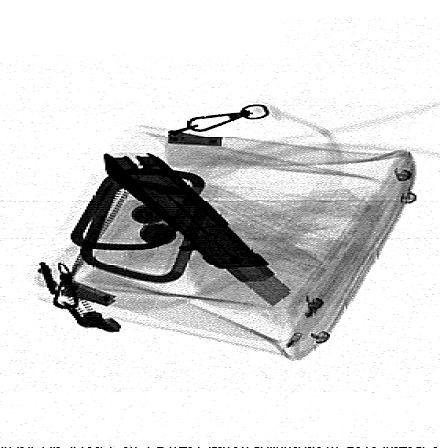Knife: (102, 151, 294, 307)
